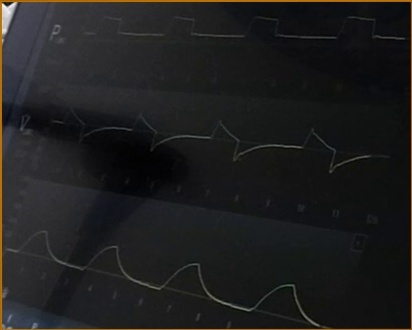Normal Flow: (53, 102, 370, 176)
Normal Volume: (8, 225, 317, 325)
